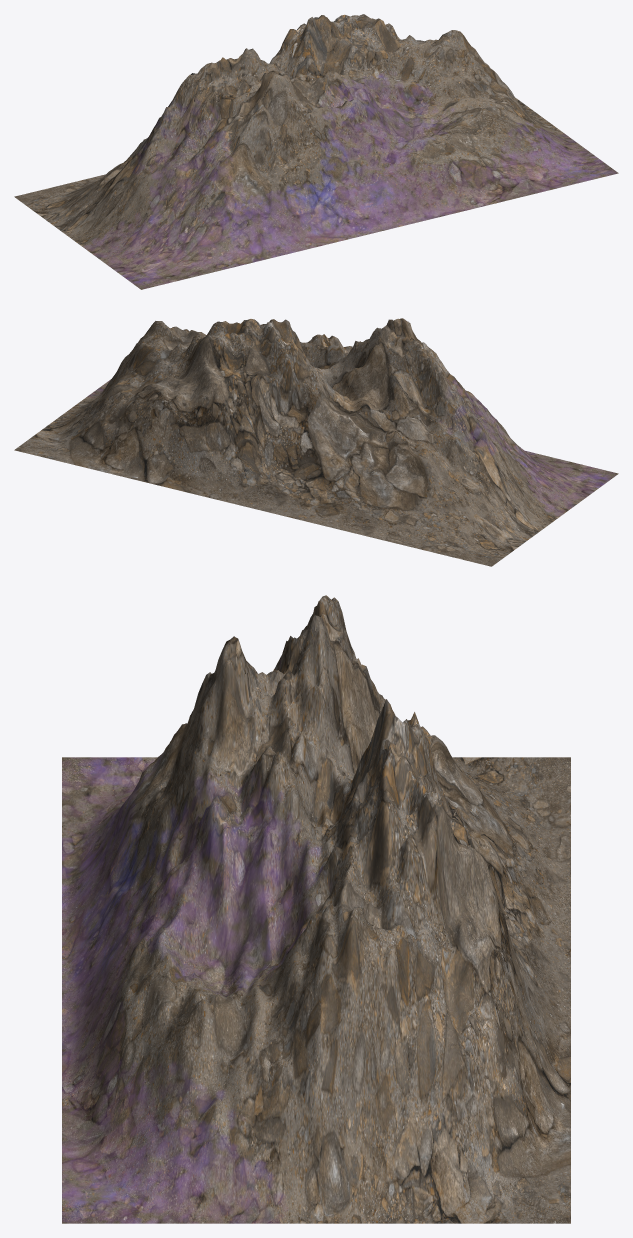
The model's file is SuperBackground.fbx.
3 views of the same model, one above another, from view 1: azimuth 30°, elevation 25°; view 2: azimuth 150°, elevation 25°; view 3: azimuth 270°, elevation 25° (orthographic). The views are drawn at different scales.
Parts seen in each view (by area): view 1: Landscape.002; view 2: Landscape.002; view 3: Landscape.002.
Part boxes in pixels (x1=…): Landscape.002: x1=14, y1=14, x2=618, y2=289; Landscape.002: x1=14, y1=318, x2=618, y2=566; Landscape.002: x1=62, y1=595, x2=570, y2=1223.
Size of the model in its own units: 24407 by 7506 by 11264.
Materials: 1 (1 with a texture image).
